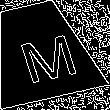M_N: (6, 22, 75, 82)
